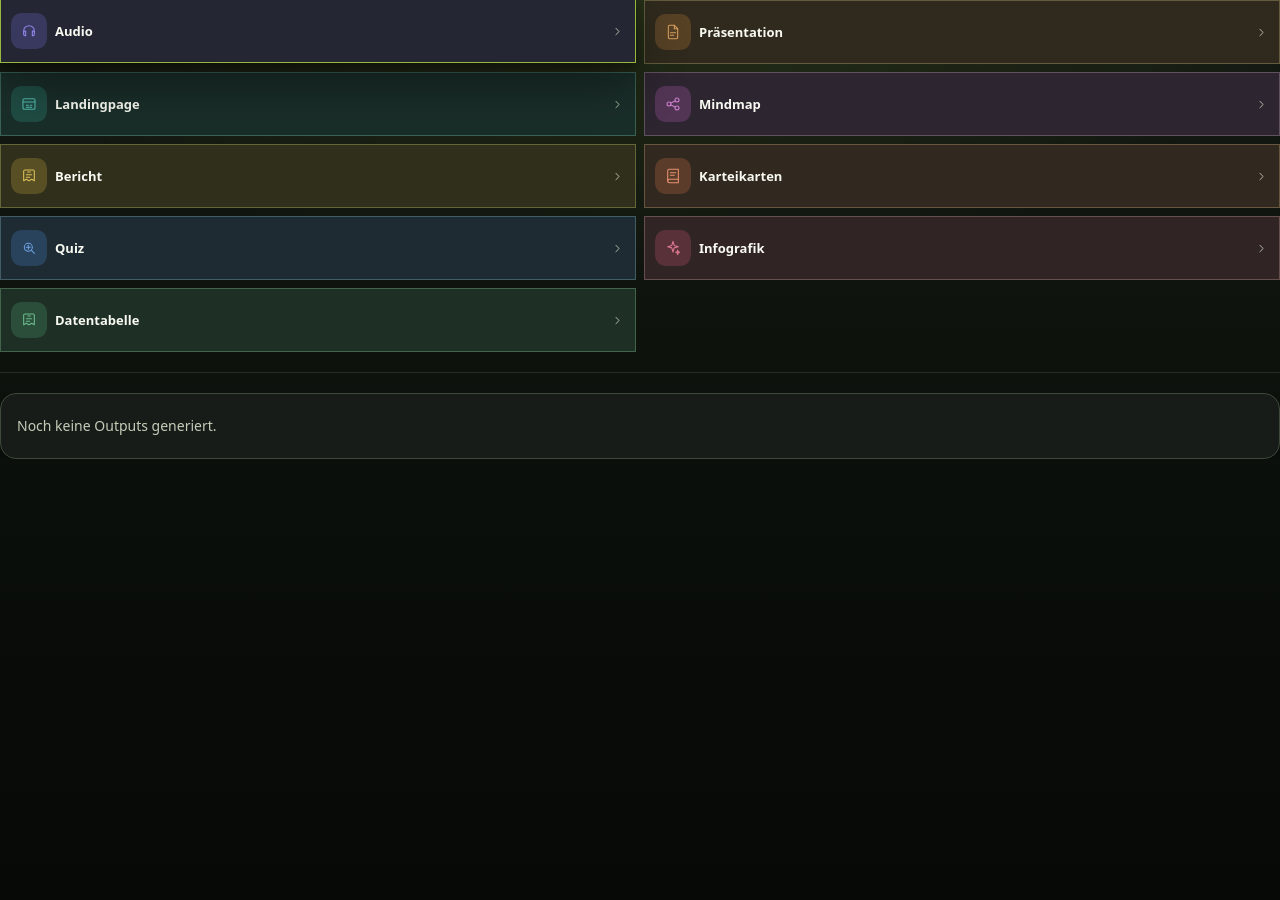
Test case: StudioPanel › sendet den Artefakt-Typ und zeigt das Ergebnis
This screenshot has width=1280, height=900.
Click the button "Präsentation".
click(673, 32)  # box [644,0,1279,64]
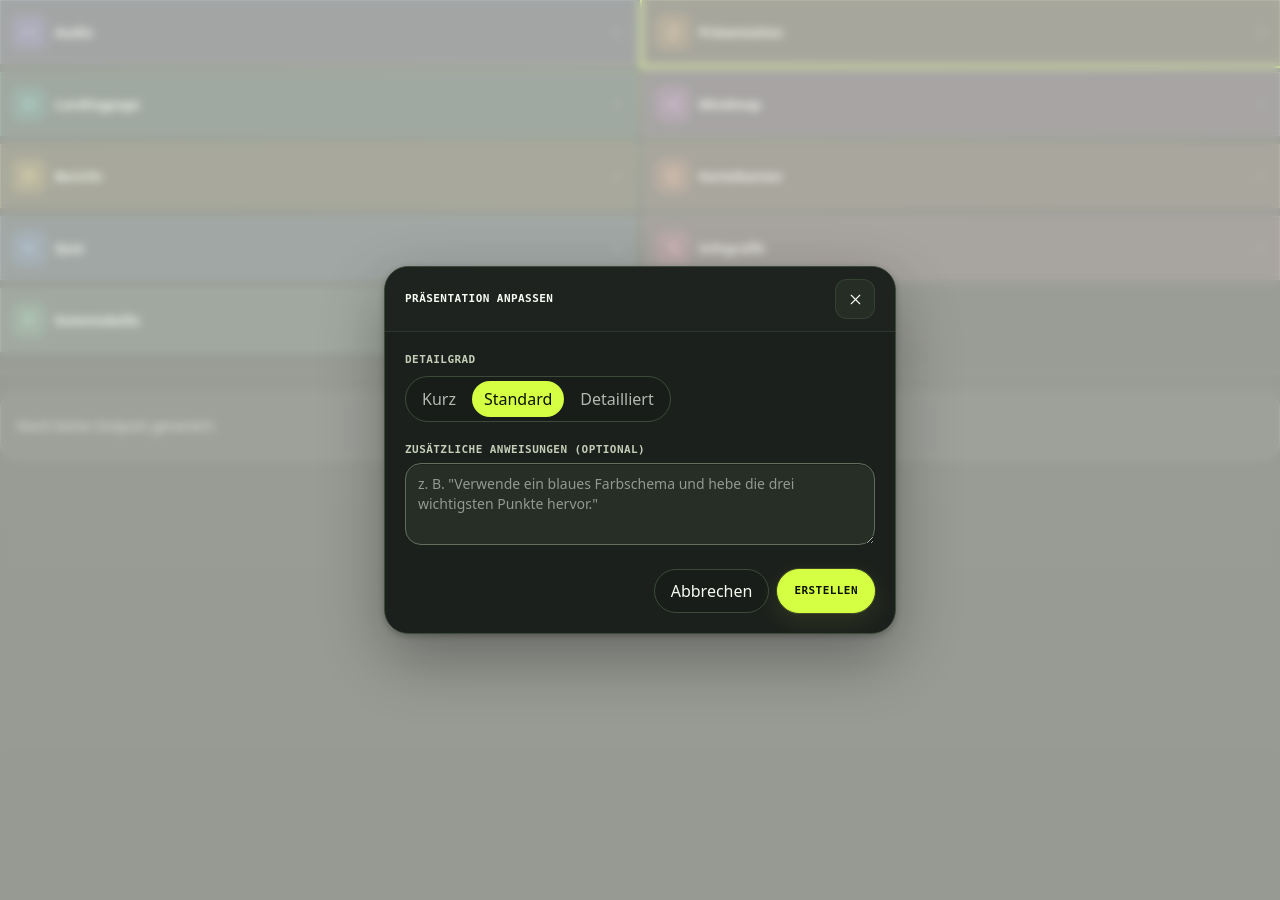
Click the button "Erstellen".
click(826, 591)  # box [777,569,875,613]
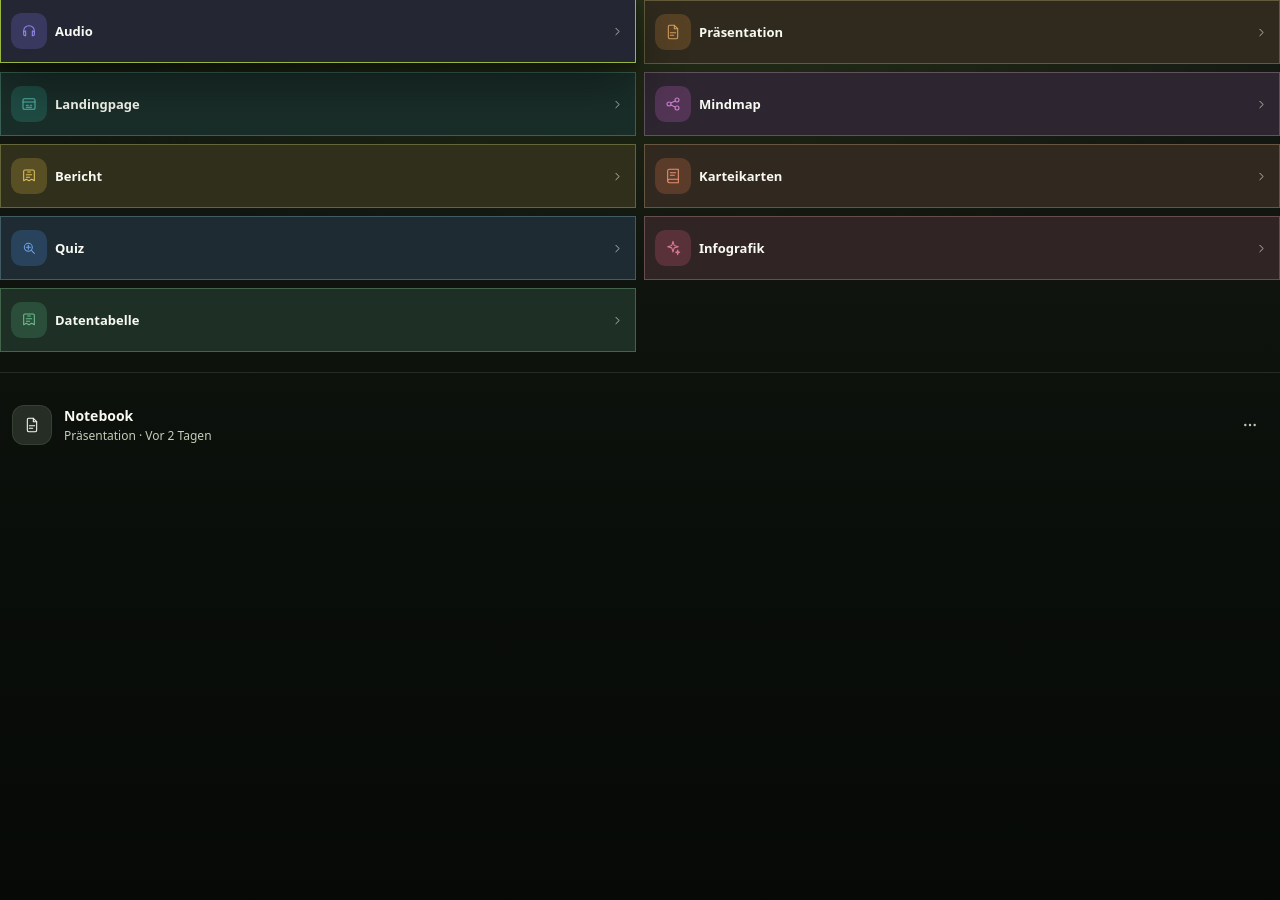
# Öffne das Modal durch Klick auf das neue Feed-Element
Click the text "Notebook".
click(99, 416)  # box [64,406,133,425]
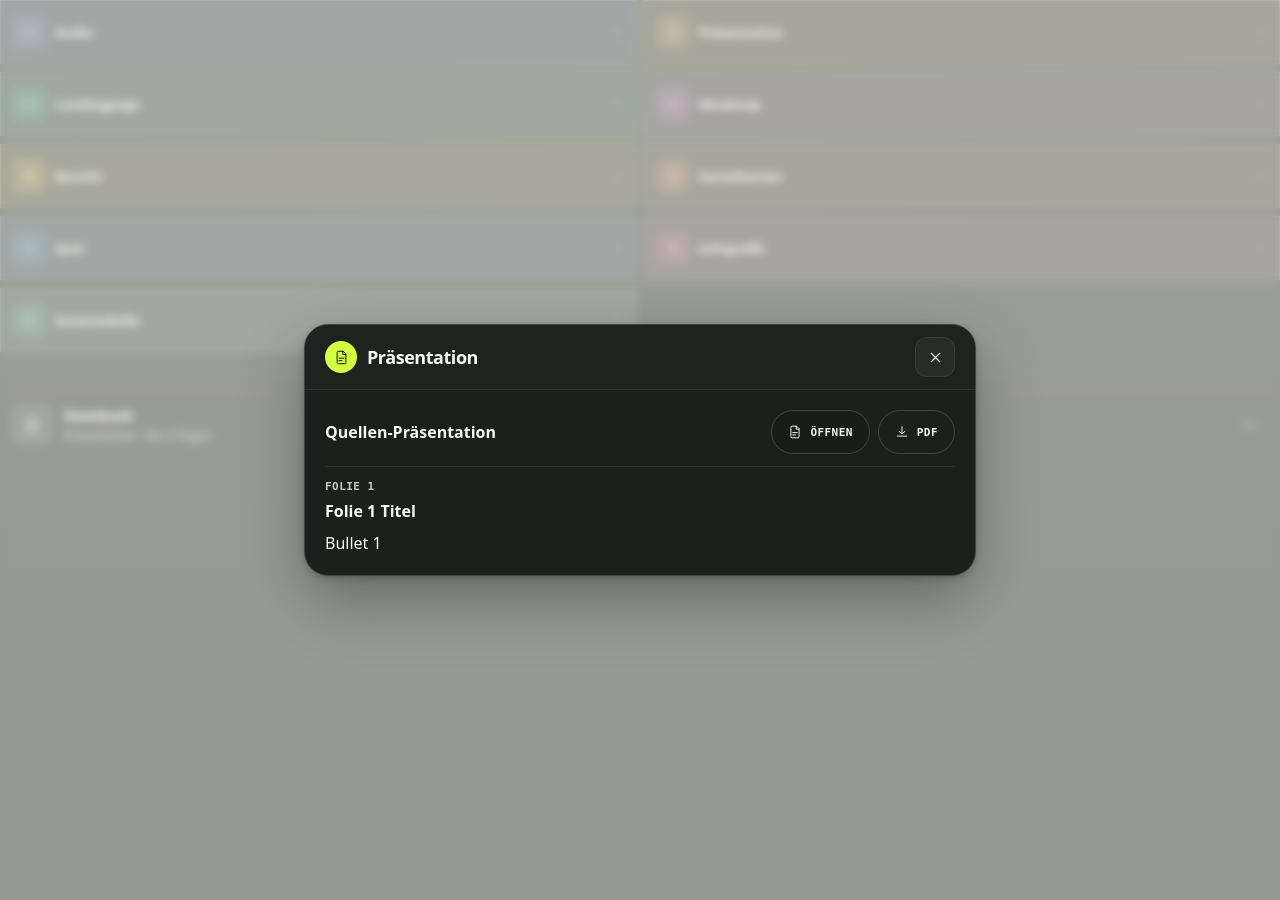
Result: the heading "Quellen-Präsentation" is shown at [325,420,496,444]
Result: the heading "Folie 1 Titel" is shown at [325,500,416,522]
